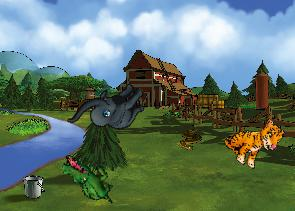crocodile: (54, 153, 122, 205)
elephant: (66, 64, 152, 153)
tiger: (219, 105, 288, 175)
